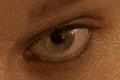eye: (43, 27, 74, 54)
